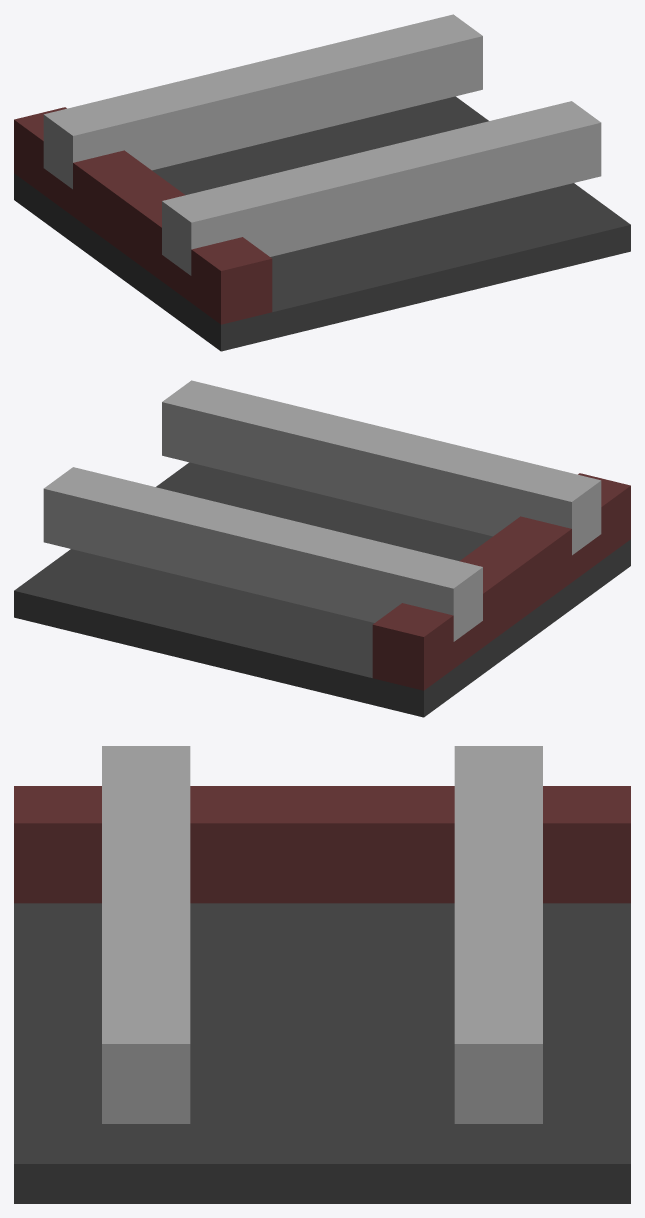
File: roady_cross_assets-21.obj
3 views of the same model, one above another, from view 1: azimuth 30°, elevation 25°; view 2: azimuth 150°, elevation 25°; view 3: azimuth 270°, elevation 25° (orthographic). The views are drawn at different scales.
Bounding box in the file's own units: 1.6 × 0.4 × 1.4.
Materials: 1 (1 with a texture image).
